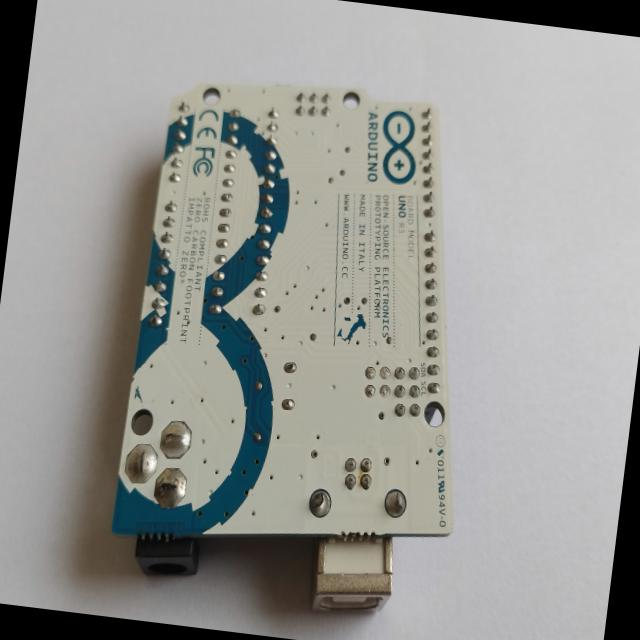arduino: (94, 55, 517, 640)
